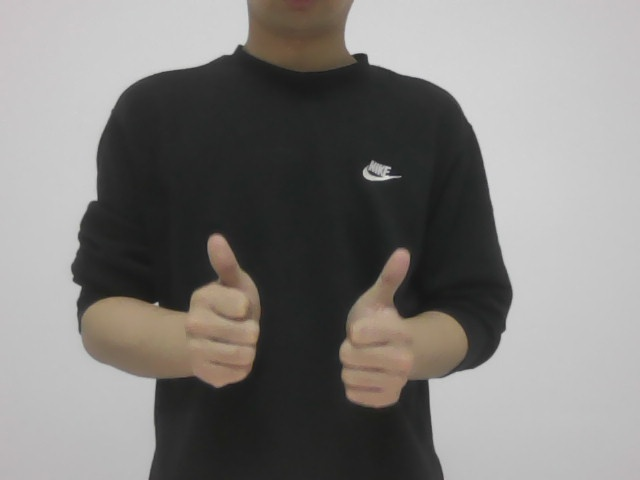friend: (165, 223, 416, 412)
